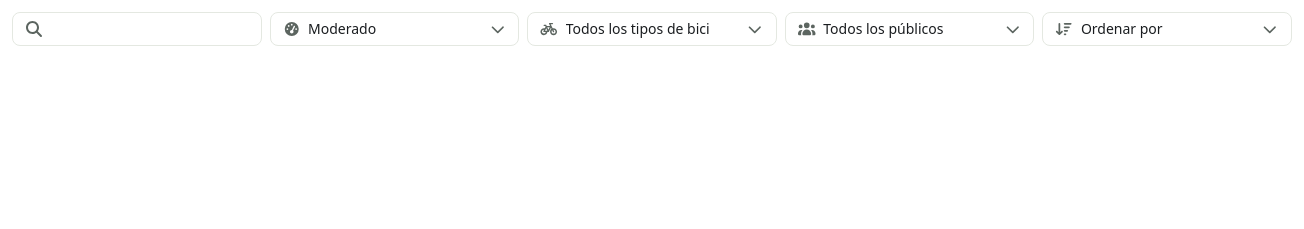
Scenario: RideFilters › marks the current value with aria-checked inside the menu
The width and height of the screenshot is (1304, 229).
Click the button "Moderado". click: click(394, 29)
box: [270,12,519,46]
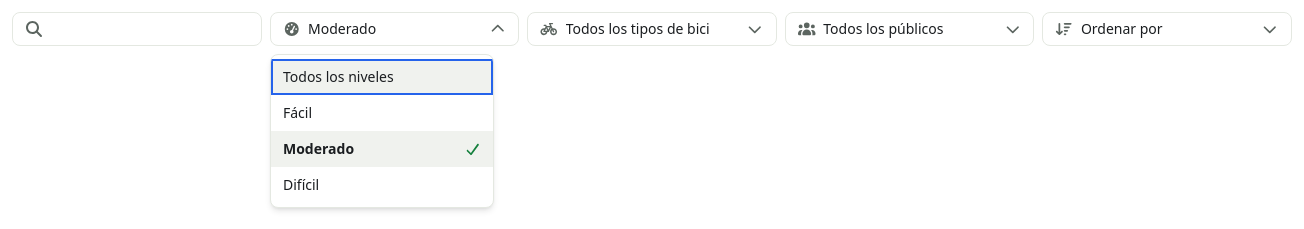
Check: the menu item "Moderado" is shown, box [271,131,493,167]
